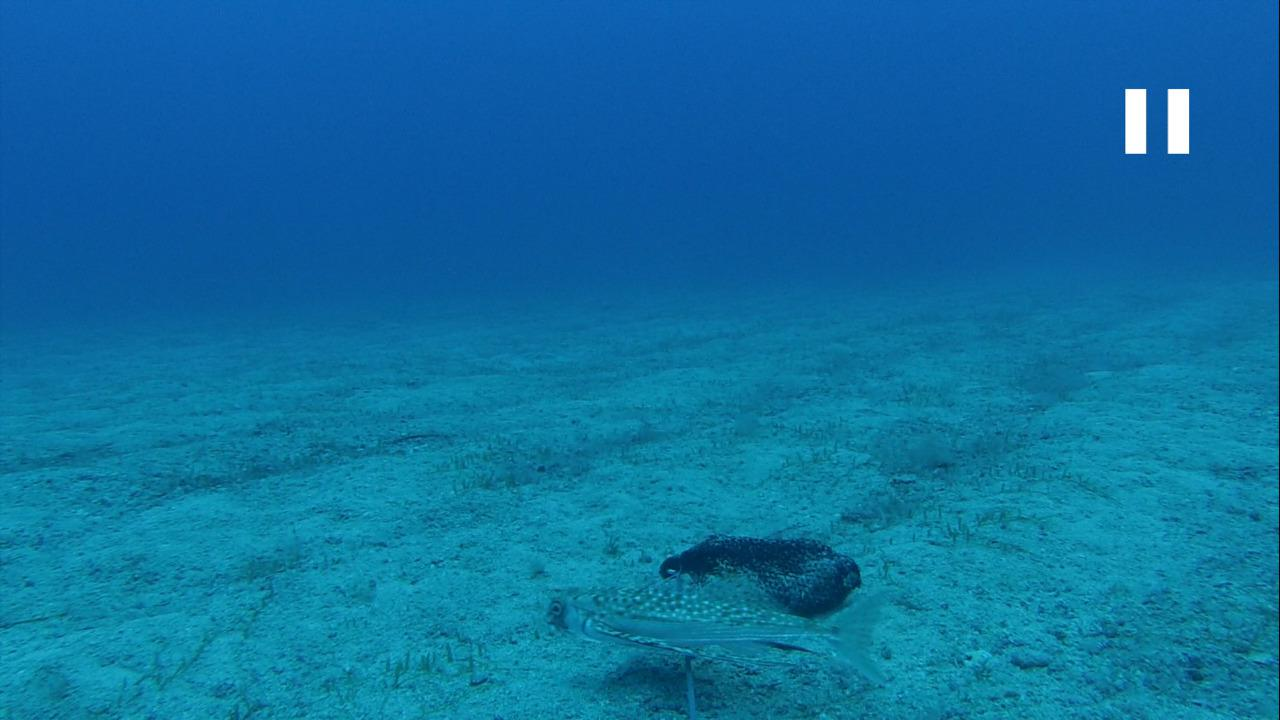dactylopterus: (535, 573, 886, 712)
